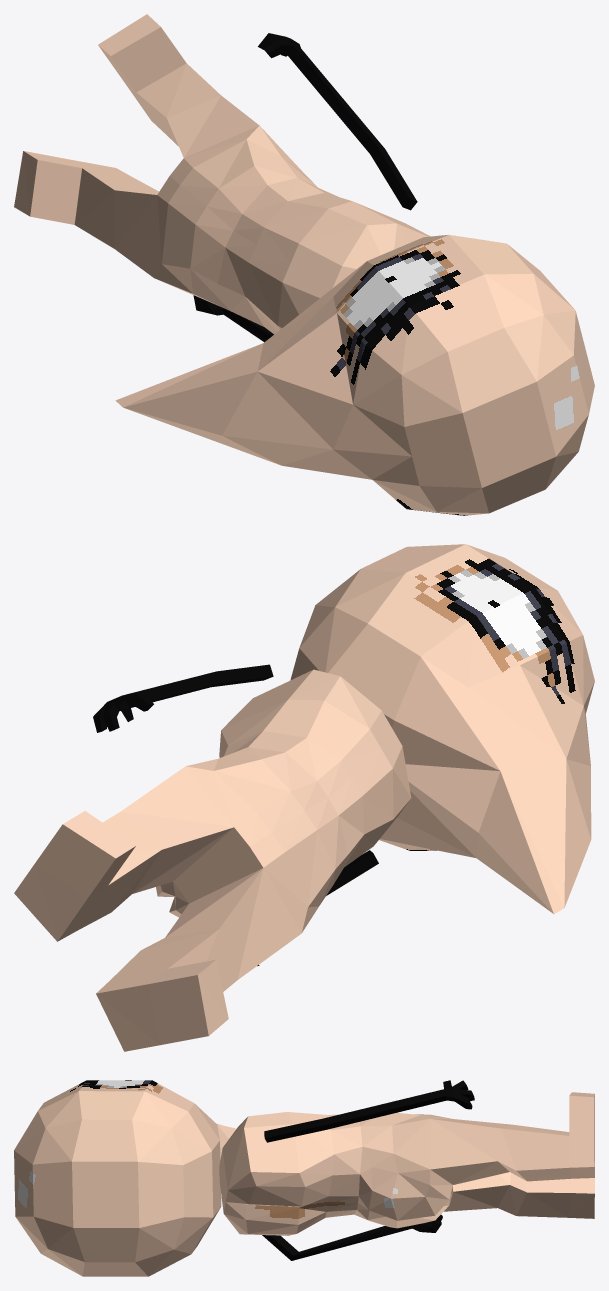
The model's file is impKing_idle.obj.
3 renders of one model, top to bottom at view 1: azimuth 30°, elevation 25°; view 2: azimuth 150°, elevation 25°; view 3: azimuth 270°, elevation 25°, orthographic. The views are drawn at different scales.
Parts seen in each view (by area): view 1: Cube.018; view 2: Cube.018; view 3: Cube.018.
Part boxes in pixels (bbox=[...]): Cube.018: bbox=[14, 14, 594, 515]; Cube.018: bbox=[14, 544, 594, 1051]; Cube.018: bbox=[14, 1080, 594, 1276].
Bounding box in the file's own units: 3.84 × 3.02 × 7.7.
1 material, 1 textured.
